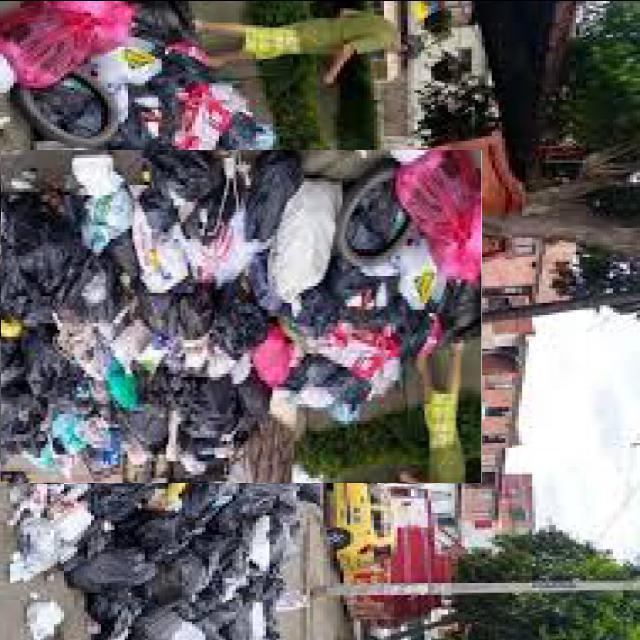Trashbag: (12, 203, 89, 295), (146, 152, 228, 228), (90, 591, 198, 640), (242, 156, 300, 243), (142, 283, 210, 343), (304, 358, 367, 412), (170, 377, 233, 428), (142, 560, 215, 603), (126, 512, 190, 557), (82, 548, 152, 584), (218, 302, 262, 352), (230, 383, 272, 422)
